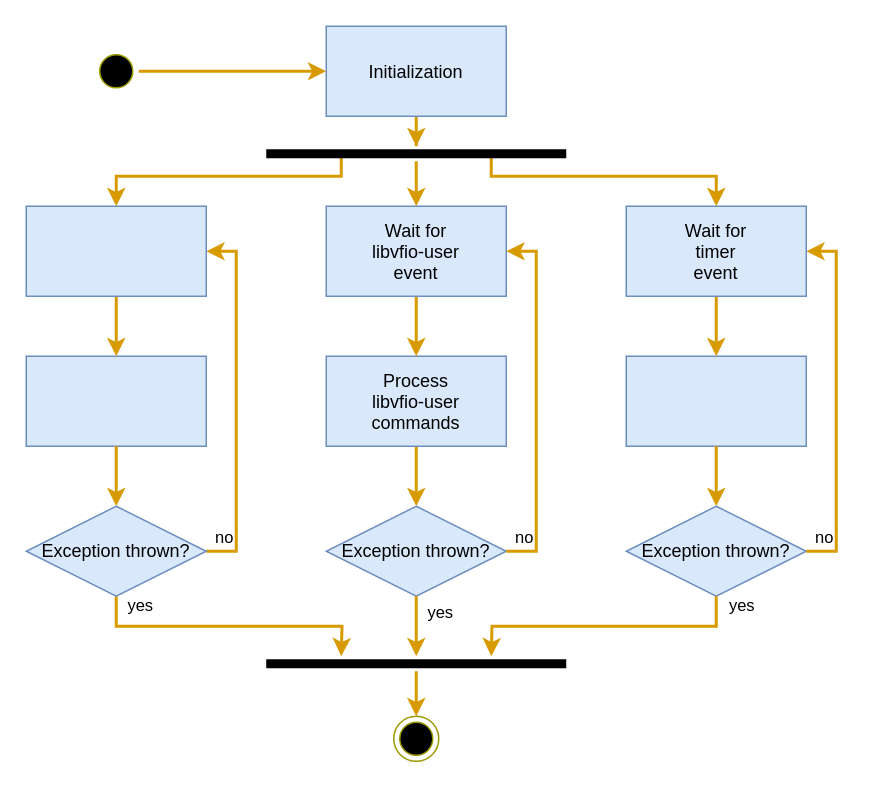
The diagram is 876 pixels wide and 788 high, and some of its shapes have lost their labels. The shapes that lost their labels are listed below. From the top down, each one's box as (x1, y1, x2, y2) in pixels, then its label:
(25, 205, 206, 296): Wait for TAP interface event
(25, 355, 206, 446): Receive packets
(625, 355, 806, 446): Update interrupt mitigation
